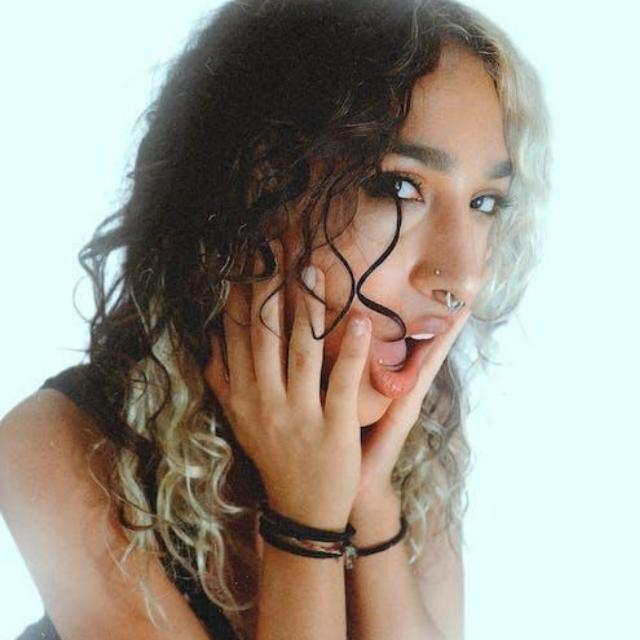Surprised: (262, 30, 521, 476)
